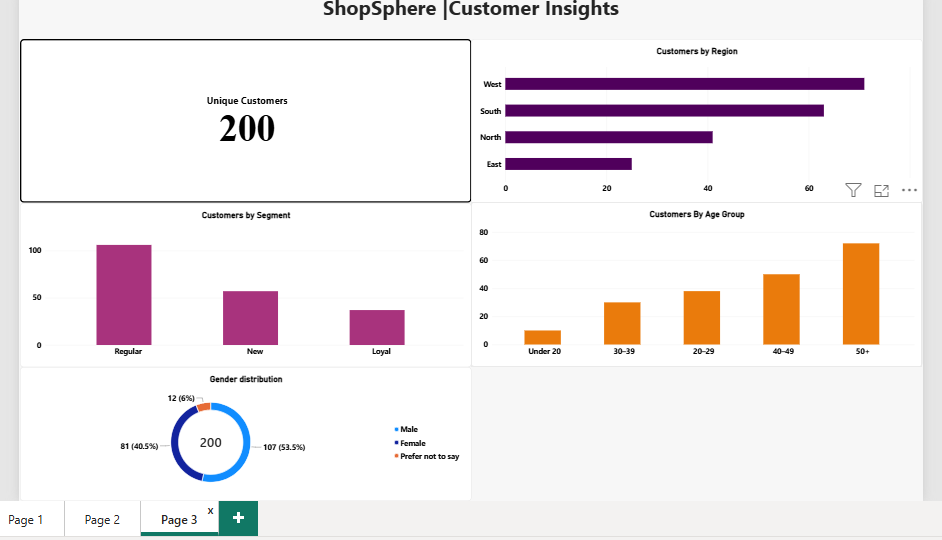

The dashboard page shown, as its layout file describes it:
{"tool":"powerbi","page":{"name":"Page 3","canvas":[1920,1080],"ordinal":2},"visuals":[{"type":"textbox","box":[1.9,0,1917.3,98.1],"z":0},{"type":"cardVisual","fields":{"Data":["Customers.Unique Customers"]},"box":[2.2,97.8,960,348.9],"z":1000},{"type":"clusteredBarChart","title":"Customers by Region","fields":{"Category":["Customers.Region"],"Y":["Count(Customers.CustomerID)"]},"box":[960,97.5,960,350],"z":2000},{"type":"clusteredColumnChart","title":"Customers by Segment","fields":{"Category":["Customers.CustomerSegment"],"Y":["CountNonNull(Customers.CustomerID)"]},"box":[2.2,446.7,960,348.9],"z":3000},{"type":"clusteredColumnChart","title":"Customers By Age Group","fields":{"Category":["Customers.Age Group"],"Y":["CountNonNull(Customers.CustomerID)"]},"box":[960,445,960,350],"z":4000},{"type":"donutChart","title":"Gender distribution","fields":{"Category":["Customers.Gender"],"Y":["CountNonNull(Customers.CustomerID)"]},"box":[2.5,795,960,285],"z":5000}]}

Visuals, with their boxes on the page's 1920x1080 design canvas (x1, y1, x2, y2). These are canvas units, not pixel positions in the 942x540 screenshot, which may show the page scaled, cropped or inside an application window:
textbox: <bbox>2, 0, 1919, 98</bbox>
cardVisual - Customers.Unique Customers: <bbox>2, 98, 962, 447</bbox>
"Customers by Region" clusteredBarChart: <bbox>960, 98, 1920, 448</bbox>
"Customers by Segment" clusteredColumnChart: <bbox>2, 447, 962, 796</bbox>
"Customers By Age Group" clusteredColumnChart: <bbox>960, 445, 1920, 795</bbox>
"Gender distribution" donutChart: <bbox>2, 795, 962, 1080</bbox>
